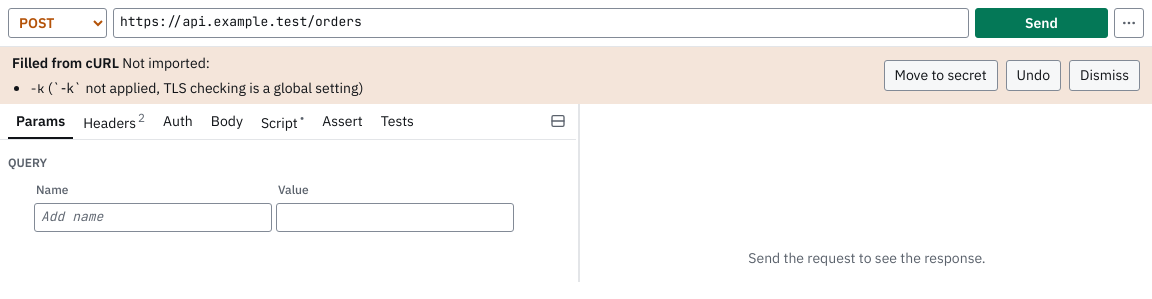
Scenario: pasting curl into the URL bar › undo restores previous draft
The width and height of the screenshot is (1152, 299).
Expected: the text "Filled from cURL" is shown, x1=12 y1=54 x2=119 y2=72
Click the button "Undo" at (1033, 76), box x1=1006 y1=60 x2=1061 y2=91
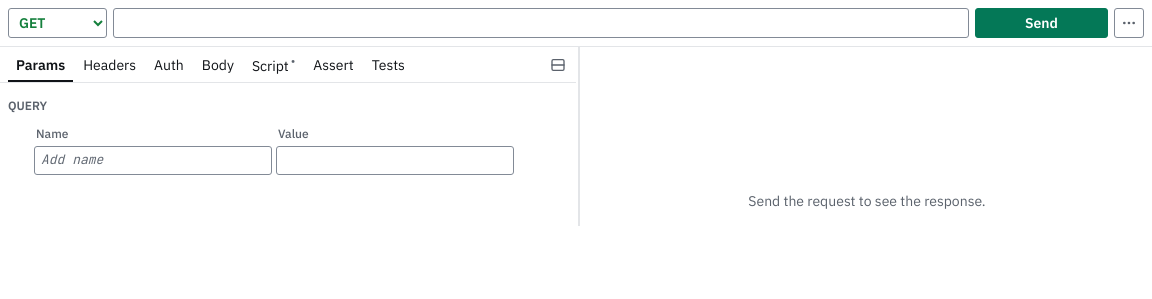
Expected: the text "Filled from cURL" is gone
